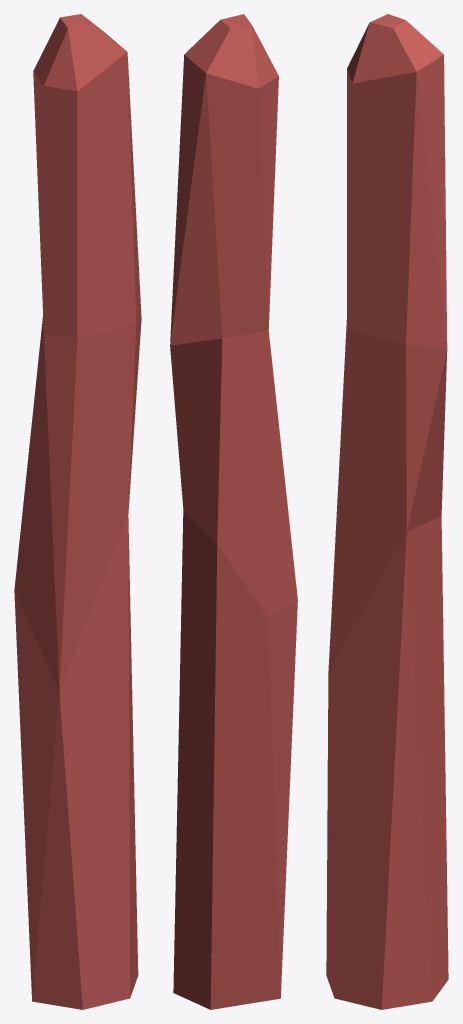
Rendered from LPSciFiCharacter_AlienPlantN2.fbx.
3 renders of one model, left to right at view 1: azimuth 30°, elevation 25°; view 2: azimuth 210°, elevation 25°; view 3: azimuth 330°, elevation 25°, orthographic.
Parts seen in each view (by area): view 1: AlienPlantN2; view 2: AlienPlantN2; view 3: AlienPlantN2.
Boxes of the visible parts, left/top/right/bottom form: AlienPlantN2: left=14, top=14, right=141, bottom=1009; AlienPlantN2: left=170, top=14, right=297, bottom=1009; AlienPlantN2: left=326, top=14, right=448, bottom=1009.
Bounding box in the file's own units: 18.61 × 148 × 16.99.
